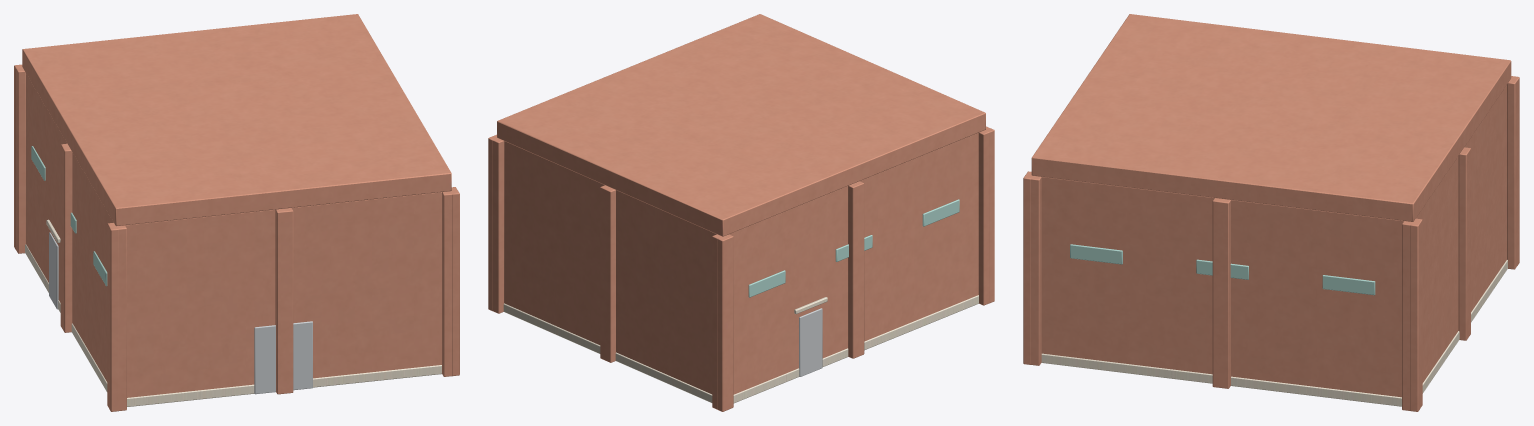
The model's file is Batiment_bloc_3.glb.
3 renders of one model, left to right at view 1: azimuth 30°, elevation 25°; view 2: azimuth 150°, elevation 25°; view 3: azimuth 270°, elevation 25°, orthographic. The views are drawn at different scales.
Visible parts, largest first — view 1: Batiment_bloc_3_mur, Batiment_bloc_3_pgris, Batiment_bloc_3_band, Batiment_bloc_3_pdv; view 2: Batiment_bloc_3_mur, Batiment_bloc_3_band, Batiment_bloc_3_pgris, Batiment_bloc_3_pdv; view 3: Batiment_bloc_3_mur, Batiment_bloc_3_band, Batiment_bloc_3_pdv.
Boxes of the visible parts, box(x1,y1,x2,y2) form: Batiment_bloc_3_mur: box(14, 14, 459, 411); Batiment_bloc_3_pgris: box(49, 232, 312, 394); Batiment_bloc_3_band: box(25, 219, 441, 406); Batiment_bloc_3_pdv: box(31, 146, 107, 286); Batiment_bloc_3_mur: box(488, 14, 994, 411); Batiment_bloc_3_band: box(503, 295, 978, 403); Batiment_bloc_3_pgris: box(799, 308, 822, 376); Batiment_bloc_3_pdv: box(748, 199, 959, 297); Batiment_bloc_3_mur: box(1023, 14, 1519, 411); Batiment_bloc_3_band: box(1041, 260, 1507, 406); Batiment_bloc_3_pdv: box(1070, 244, 1375, 295).
Bounding box in the file's own units: 13.61 × 6.6 × 14.48.
5 materials, 5 textured.
